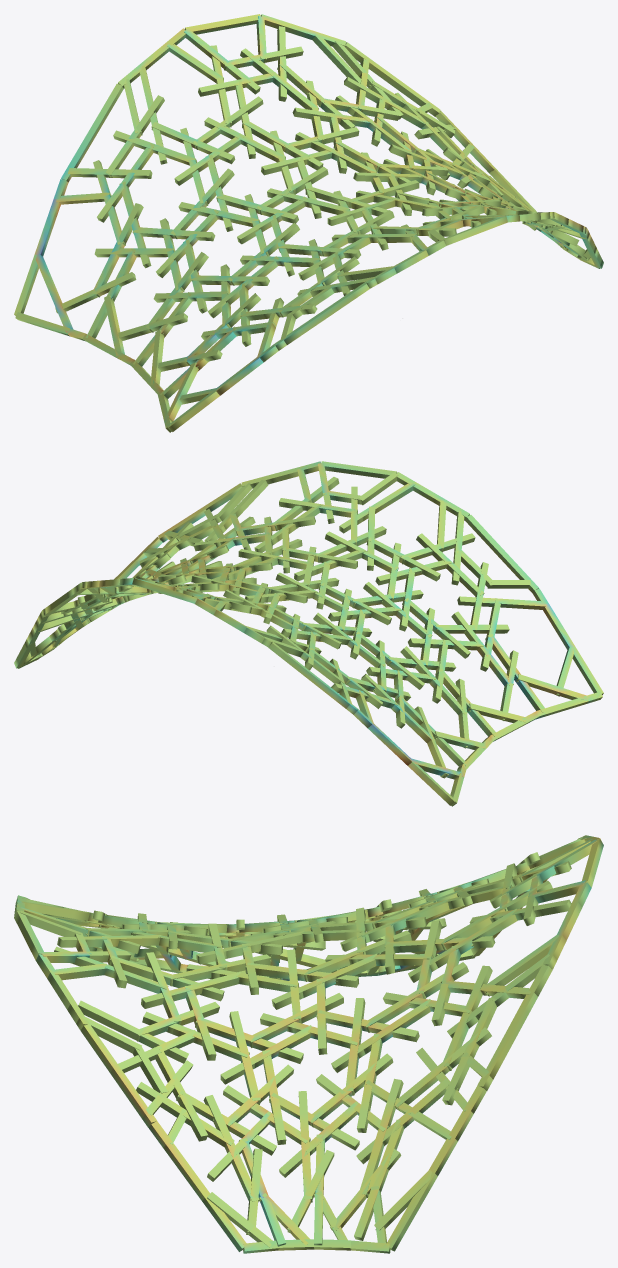
The model's file is final_hexmesh_statics.glb.
3 renders of one model, top to bottom at view 1: azimuth 30°, elevation 25°; view 2: azimuth 150°, elevation 25°; view 3: azimuth 270°, elevation 25°, orthographic. The views are drawn at different scales.
Bounding box in the file's own units: 7.87 × 3.06 × 6.52.
